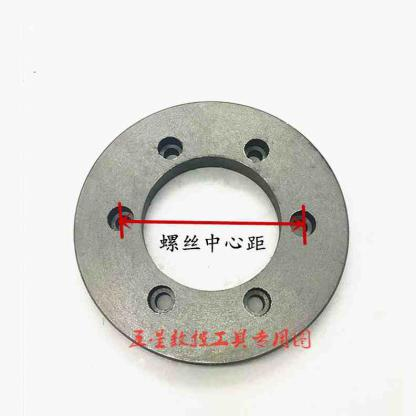FOD: (67, 94, 353, 370)
